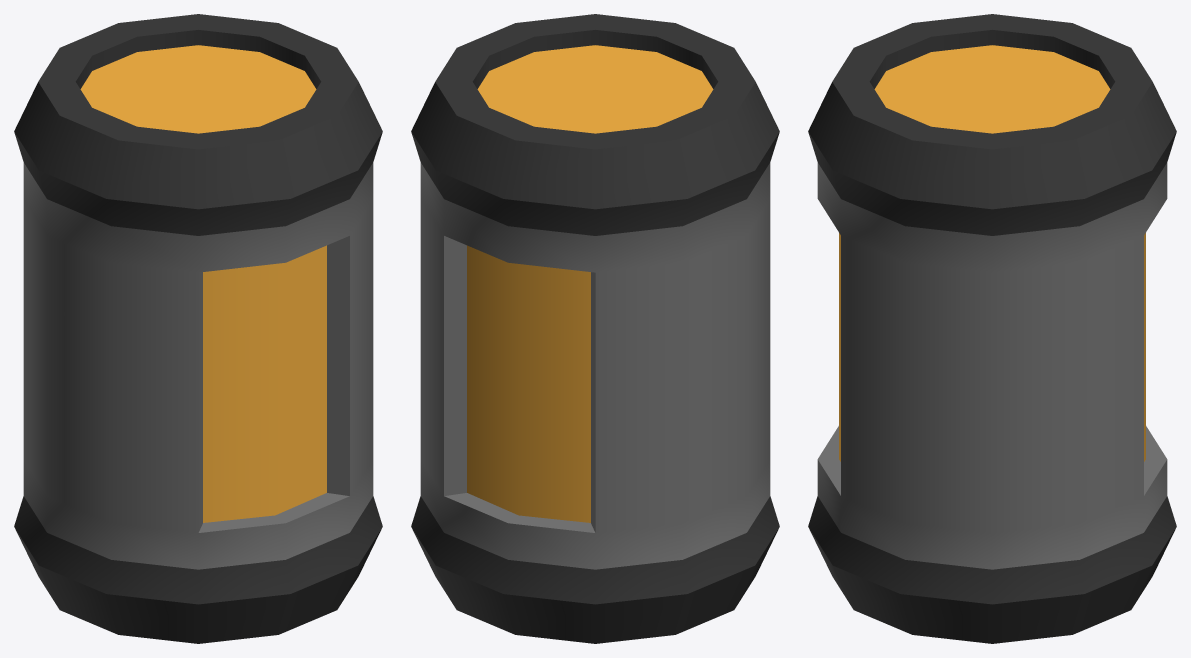
File: cc0-pickup-jar-lod0.glb
3 views of the same model, side by side, from view 1: azimuth 30°, elevation 25°; view 2: azimuth 150°, elevation 25°; view 3: azimuth 270°, elevation 25° (orthographic).
Parts seen in each view (by area): view 1: part_0; view 2: part_0; view 3: part_0.
Boxes of the visible parts, x1,y1,x2,y2 form: part_0: (14,14,382,643); part_0: (411,14,779,643); part_0: (808,14,1176,643).
Bounding box in the file's own units: 0.6919 × 1.02 × 0.6919.
1 material, 1 textured.
